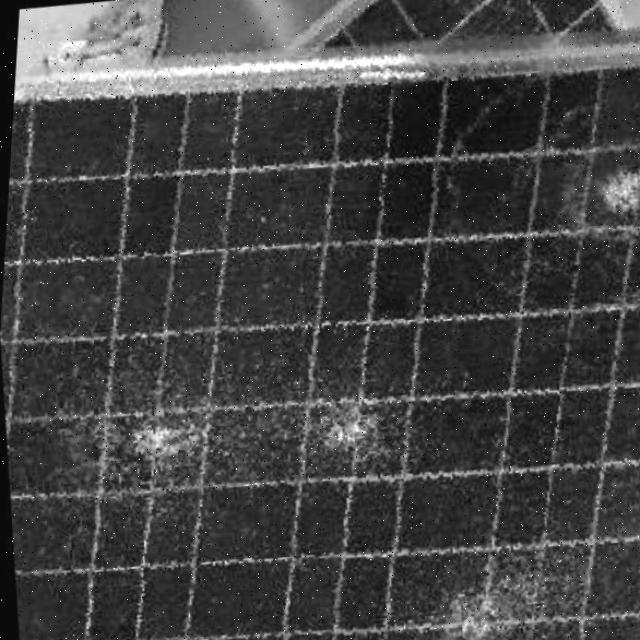Anomaly Solar Panel: (0, 23, 640, 640)
Structural Damage: (267, 324, 404, 512), (368, 542, 627, 640), (499, 108, 640, 282), (80, 363, 246, 490)
